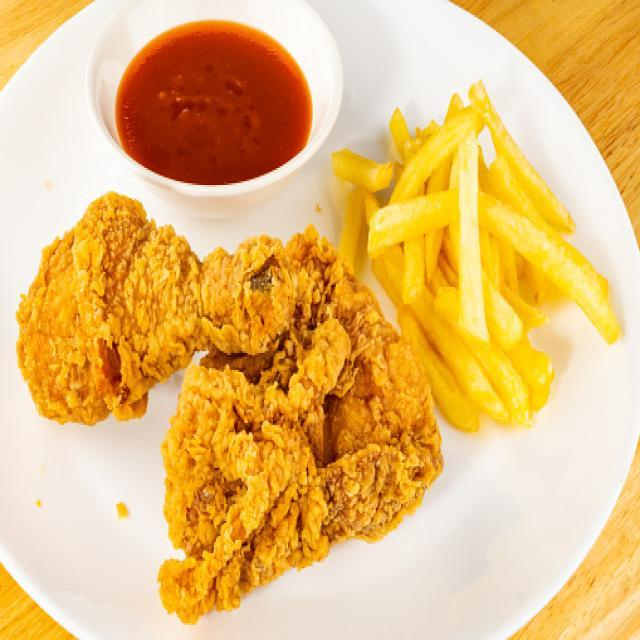ga ran va khoai tay chien: (11, 17, 627, 623)
khoai tay chien: (336, 81, 618, 439)
thit ga: (161, 222, 437, 615), (15, 190, 295, 425)
